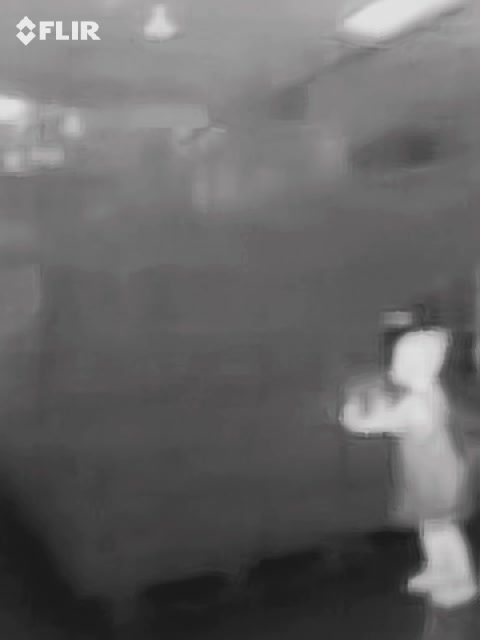head: (388, 329, 444, 389)
